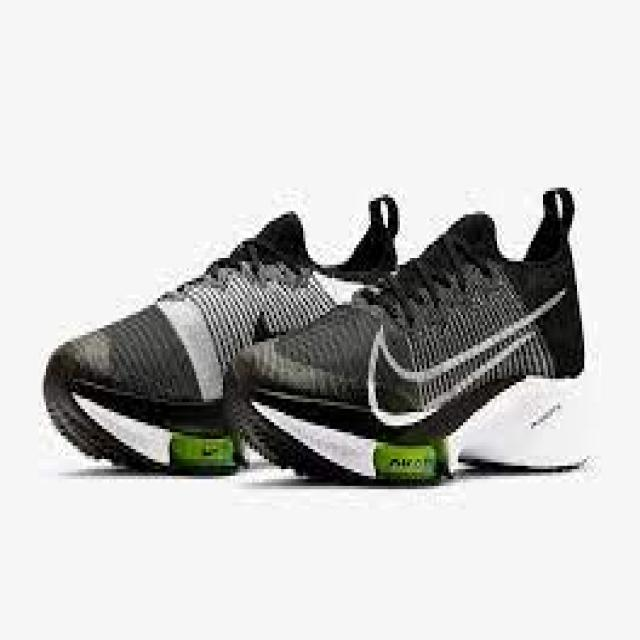shoes: (26, 187, 592, 486), (227, 189, 591, 480)
